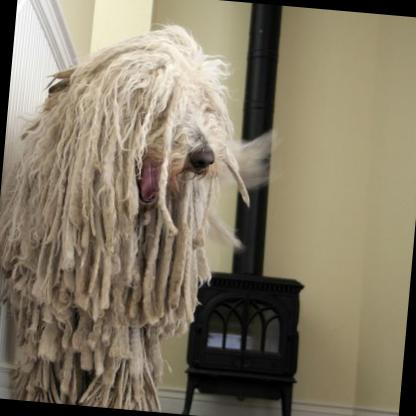komondor: (0, 4, 296, 416)
